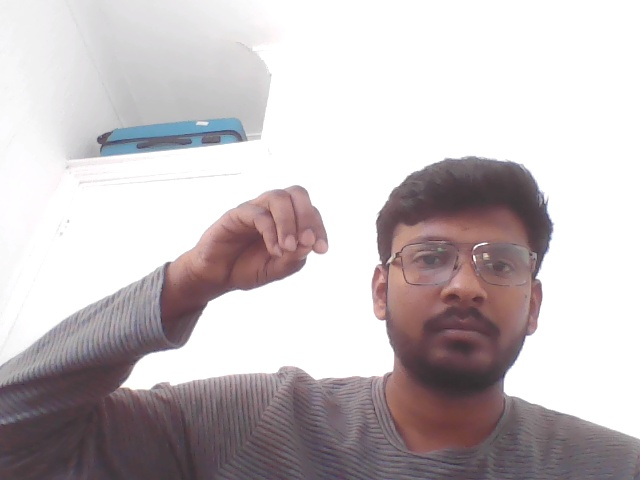Yes: (150, 173, 357, 350)
